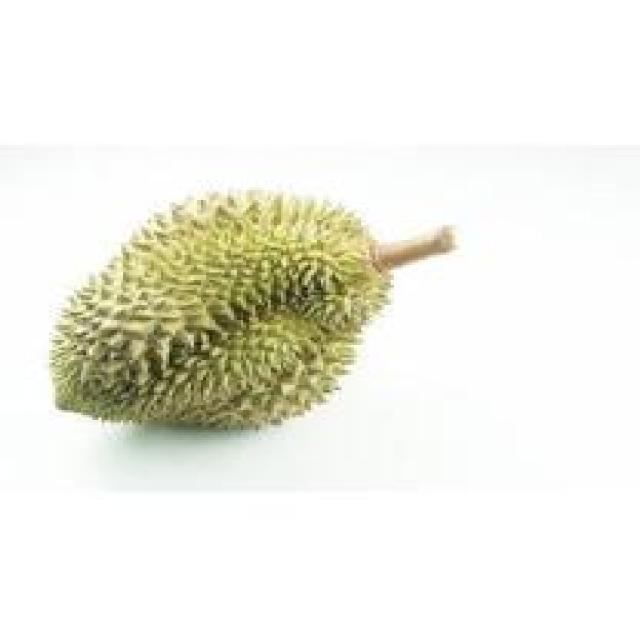fruit: (12, 145, 418, 473)
